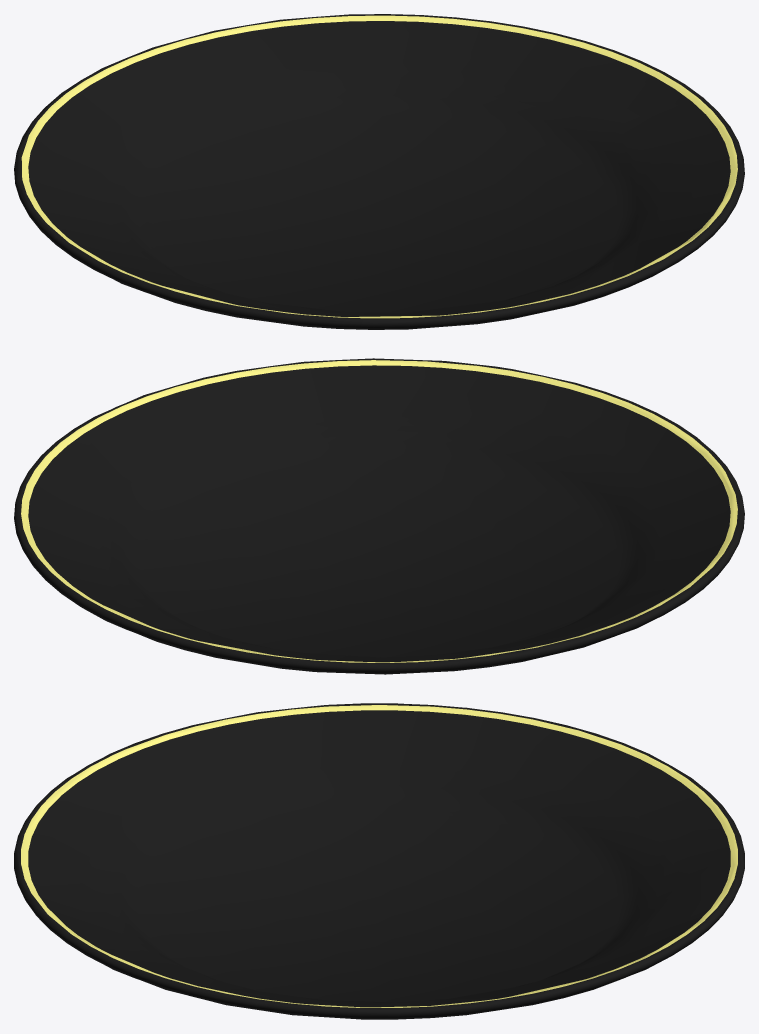
The model's file is plate.fbx.
The picture shows the model from 3 angles, top to bottom: view 1: azimuth 30°, elevation 25°; view 2: azimuth 150°, elevation 25°; view 3: azimuth 270°, elevation 25°; orthographic projection.
Visible parts, largest first — view 1: plate; view 2: plate; view 3: plate.
Part boxes in pixels (<box>): plate: <box>14,14,744,329</box>; plate: <box>14,358,744,674</box>; plate: <box>14,703,744,1019</box>.
Size of the model in its own units: 121 by 11.39 by 121.
